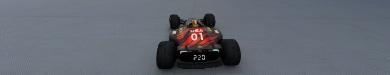Car: (155, 12, 241, 69)
grass: (0, 0, 389, 74)
